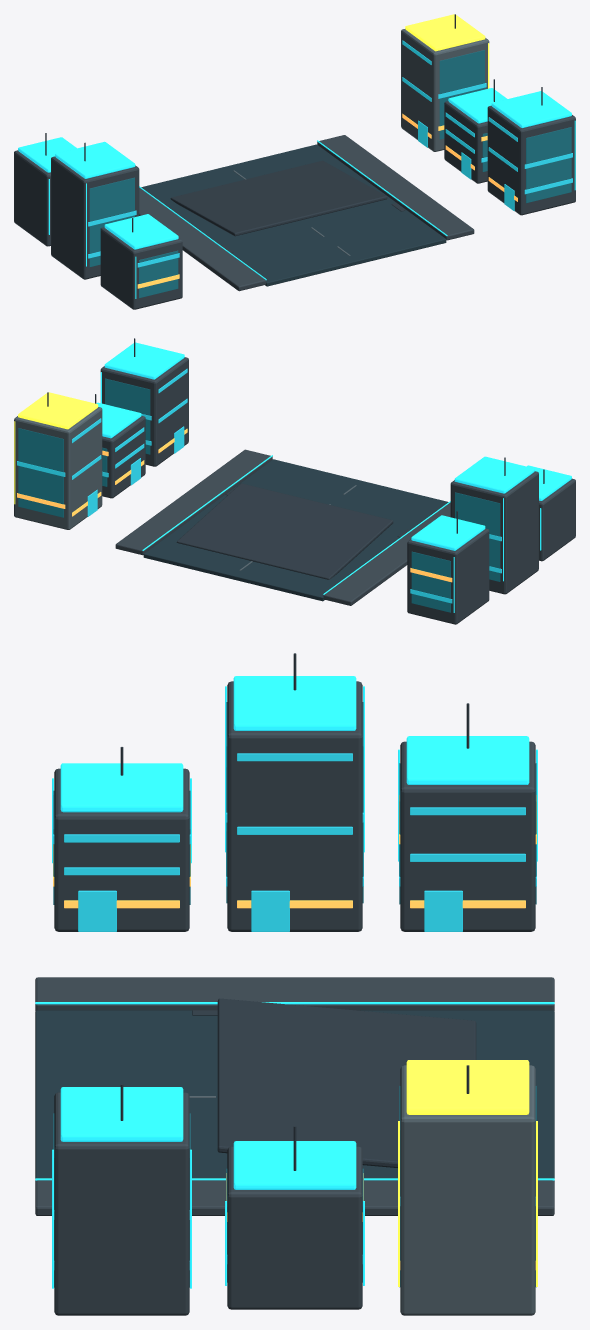
File: ramp_down_lod1.glb
The picture shows the model from 3 angles, top to bottom: view 1: azimuth 30°, elevation 25°; view 2: azimuth 150°, elevation 25°; view 3: azimuth 270°, elevation 25°; orthographic projection. The views are drawn at different scales.
Visible parts, largest first — view 1: ND_Batch_ND_CityConcrete, ND_Batch_ND_WetAsphalt, ND_Batch_ND_RooftopMetal, ND_Batch_ND_DarkGlass, ND_Batch_ND_CityCyanMuted, ND_Batch_ND_RoadEdge, ND_Batch_ND_CityConcreteLight, ND_Batch_ND_NeonGlass, ND_Batch_ND_PackageGold, ND_Batch_ND_WarmWindow; view 2: ND_Batch_ND_CityConcrete, ND_Batch_ND_RooftopMetal, ND_Batch_ND_WetAsphalt, ND_Batch_ND_DarkGlass, ND_Batch_ND_CityCyanMuted, ND_Batch_ND_RoadEdge, ND_Batch_ND_CityConcreteLight, ND_Batch_ND_NeonGlass, ND_Batch_ND_PackageGold, ND_Batch_ND_WarmWindow; view 3: ND_Batch_ND_CityConcrete, ND_Batch_ND_CityCyanMuted, ND_Batch_ND_RooftopMetal, ND_Batch_ND_CityConcreteLight, ND_Batch_ND_WetAsphalt, ND_Batch_ND_RoadEdge, ND_Batch_ND_NeonGlass, ND_Batch_ND_PackageGold, ND_Batch_ND_DarkGlass, ND_Batch_ND_WarmWindow.
Boxes of the visible parts, x1,y1,x2,y2 form: ND_Batch_ND_CityConcrete: (14, 101, 575, 309); ND_Batch_ND_WetAsphalt: (141, 144, 446, 286); ND_Batch_ND_RooftopMetal: (45, 14, 542, 252); ND_Batch_ND_DarkGlass: (89, 50, 571, 298); ND_Batch_ND_CityCyanMuted: (18, 88, 575, 298); ND_Batch_ND_RoadEdge: (139, 135, 474, 291); ND_Batch_ND_CityConcreteLight: (233, 29, 489, 255); ND_Batch_ND_NeonGlass: (88, 40, 572, 267); ND_Batch_ND_PackageGold: (405, 14, 489, 88); ND_Batch_ND_WarmWindow: (137, 113, 517, 288); ND_Batch_ND_CityConcrete: (100, 357, 575, 624); ND_Batch_ND_RooftopMetal: (47, 338, 544, 579); ND_Batch_ND_WetAsphalt: (143, 459, 448, 601); ND_Batch_ND_DarkGlass: (18, 378, 500, 612); ND_Batch_ND_CityCyanMuted: (96, 342, 571, 612); ND_Batch_ND_RoadEdge: (115, 449, 450, 605); ND_Batch_ND_CityConcreteLight: (14, 407, 356, 570); ND_Batch_ND_NeonGlass: (17, 368, 501, 603); ND_Batch_ND_PackageGold: (14, 392, 98, 504); ND_Batch_ND_WarmWindow: (17, 428, 452, 582); ND_Batch_ND_CityConcrete: (54, 681, 535, 1315); ND_Batch_ND_CityCyanMuted: (35, 676, 554, 1288); ND_Batch_ND_RooftopMetal: (120, 653, 476, 1178); ND_Batch_ND_CityConcreteLight: (189, 1065, 535, 1315); ND_Batch_ND_WetAsphalt: (35, 1010, 554, 1181); ND_Batch_ND_RoadEdge: (35, 977, 554, 1215); ND_Batch_ND_NeonGlass: (53, 753, 536, 1269); ND_Batch_ND_PackageGold: (398, 1060, 537, 1286); ND_Batch_ND_DarkGlass: (53, 702, 536, 1287); ND_Batch_ND_WarmWindow: (53, 795, 536, 1269).
Size of the model in its own units: 40 by 10.63 by 20.
